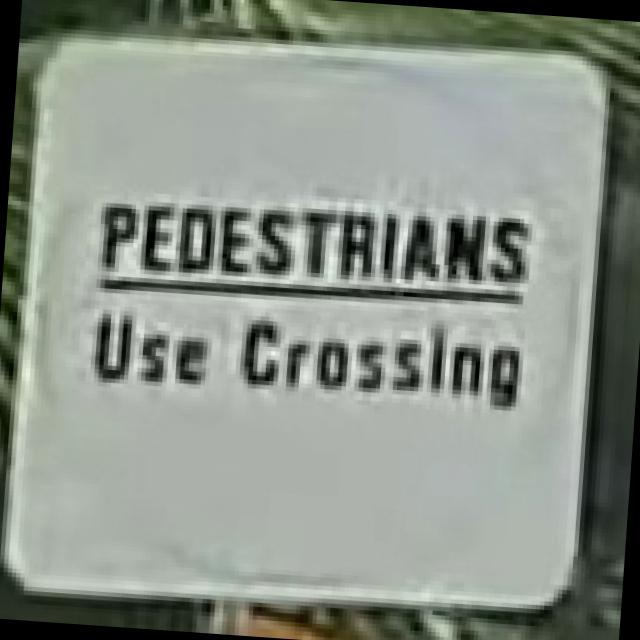pedestriancrossing_sign: (0, 9, 617, 633)
